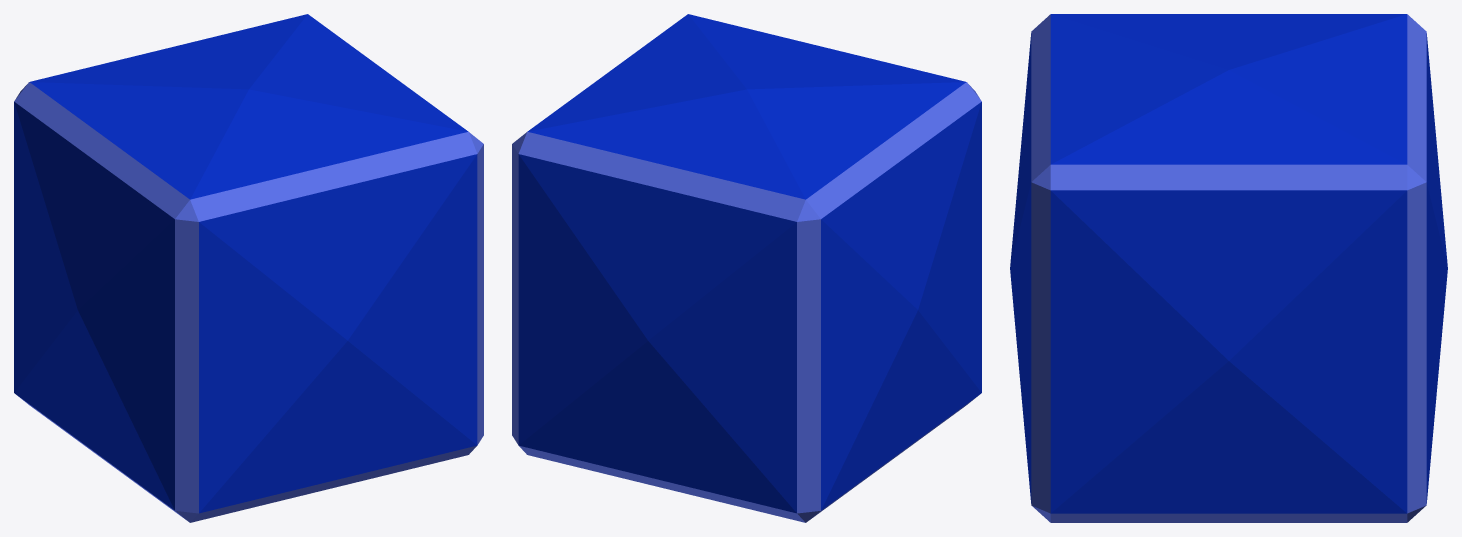
Rendered from newCube.fbx.
3 renders of one model, left to right at view 1: azimuth 30°, elevation 25°; view 2: azimuth 150°, elevation 25°; view 3: azimuth 270°, elevation 25°, orthographic. The views are drawn at different scales.
Parts seen in each view (by area): view 1: Cube; view 2: Cube; view 3: Cube.
Part boxes in pixels (left/top/right/bottom): Cube: left=14, top=14, right=483, bottom=522; Cube: left=512, top=14, right=981, bottom=522; Cube: left=1010, top=14, right=1447, bottom=522.
Size of the model in its own units: 222 by 222 by 222.
